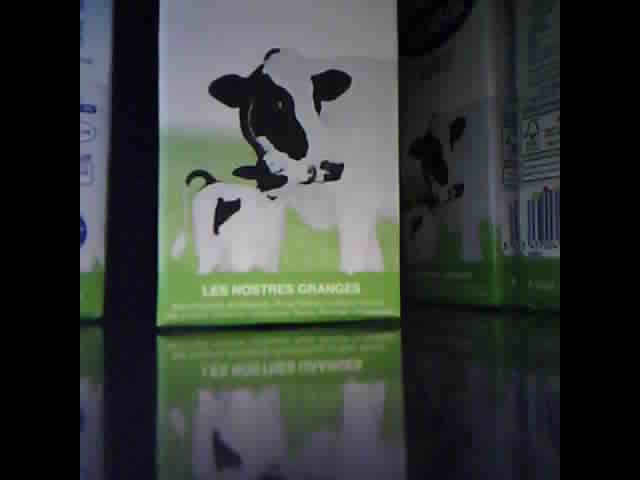leche: (157, 2, 400, 330), (404, 4, 508, 308), (510, 4, 559, 313), (80, 3, 116, 317)
